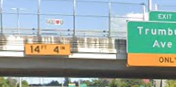1: (28, 43, 34, 54)
4: (50, 44, 60, 54), (33, 44, 41, 54)
overheadsign: (22, 42, 71, 57)
